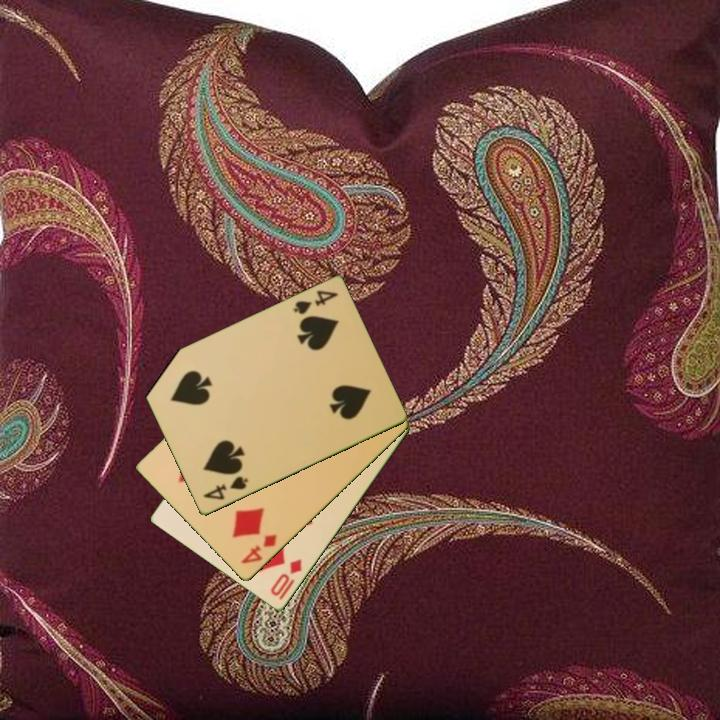10d: (267, 556, 305, 600)
4d: (237, 531, 280, 567)
4s: (290, 287, 341, 318), (199, 473, 251, 503)
